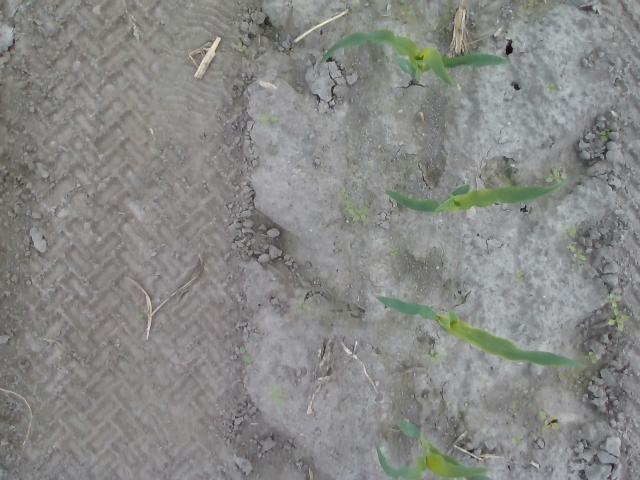Maize: (367, 289, 588, 370), (314, 30, 508, 90), (374, 419, 493, 480), (383, 177, 568, 214)
Weeds: (339, 188, 368, 225), (566, 224, 588, 262), (608, 294, 630, 330), (539, 409, 560, 432), (258, 112, 280, 128), (270, 384, 286, 406), (546, 168, 564, 184), (423, 350, 440, 363), (545, 82, 557, 93), (514, 269, 524, 282), (588, 350, 598, 363), (599, 130, 608, 143), (238, 346, 247, 357), (389, 248, 401, 256)
